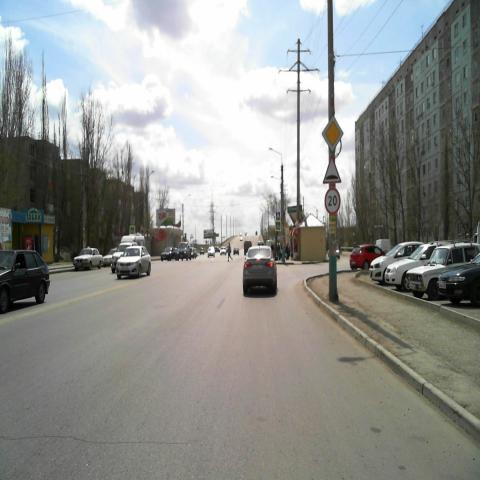3_24: (324, 186, 341, 216)
